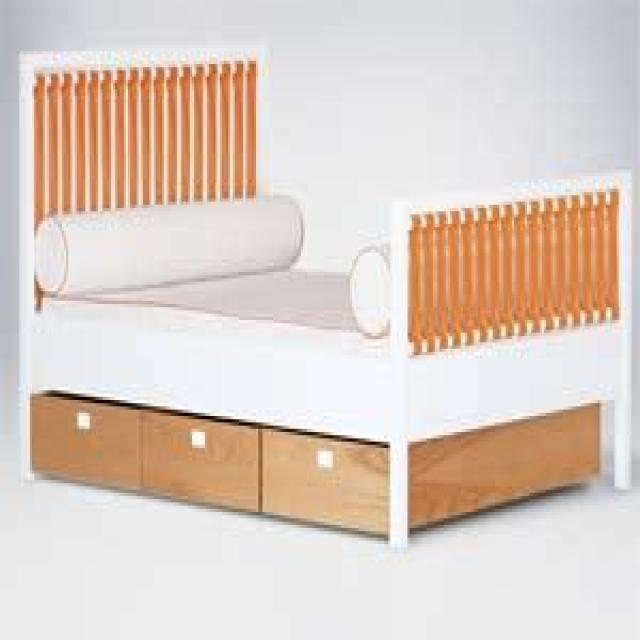bed: (17, 45, 632, 550)
